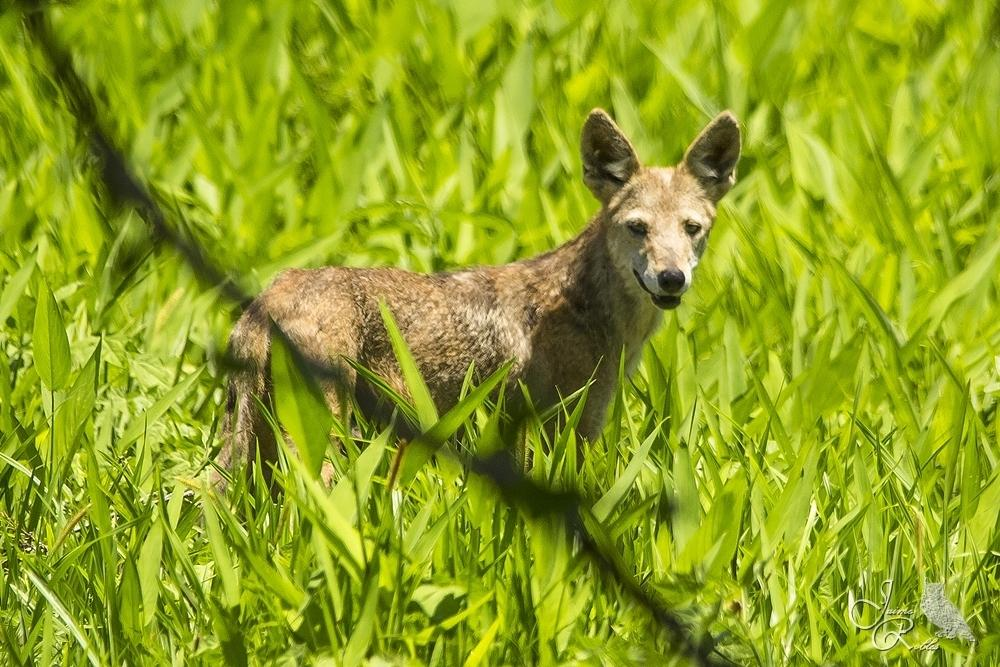Coyote: (199, 107, 745, 484)
